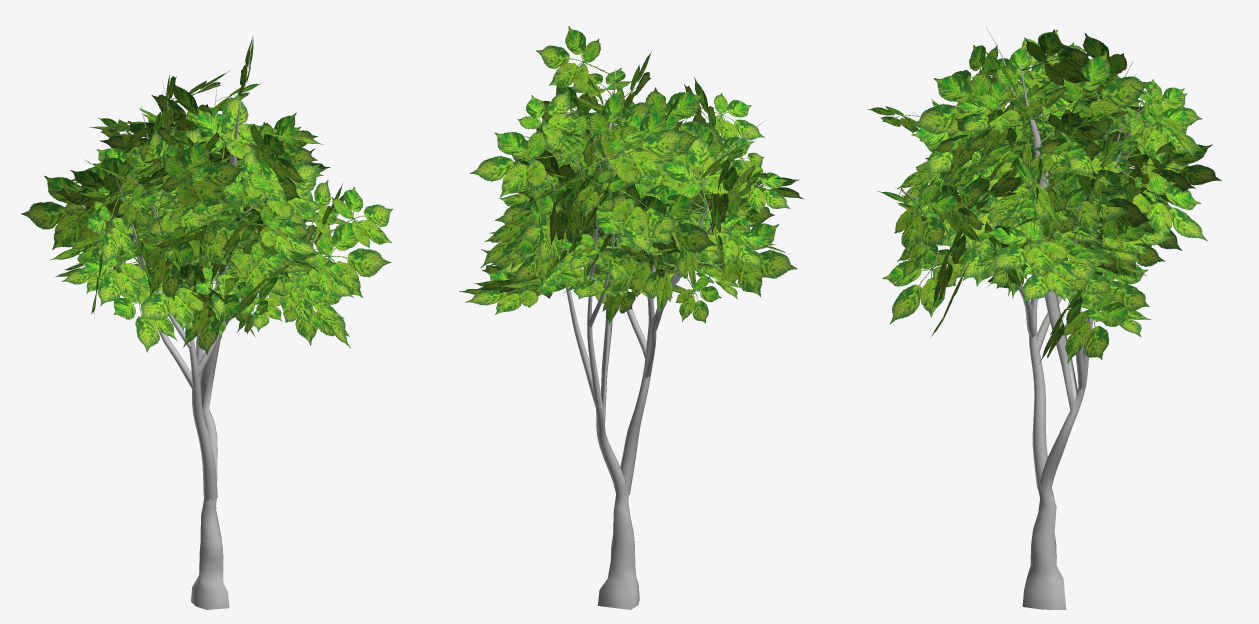
Rendered from SkinnyTree.fbx.
The picture shows the model from 3 angles, left to right: view 1: azimuth 30°, elevation 25°; view 2: azimuth 150°, elevation 25°; view 3: azimuth 270°, elevation 25°; orthographic projection. The views are drawn at different scales.
Visible parts, largest first — view 1: TreeLeaves, SkinnyTree; view 2: TreeLeaves, SkinnyTree; view 3: TreeLeaves, SkinnyTree.
Boxes of the visible parts, box(x1,y1,x2,y2) form: TreeLeaves: box(21, 36, 392, 354); SkinnyTree: box(58, 75, 333, 609); TreeLeaves: box(459, 26, 803, 324); SkinnyTree: box(511, 69, 766, 609); TreeLeaves: box(867, 29, 1221, 363); SkinnyTree: box(895, 26, 1154, 609).
Bounding box in the file's own units: 116 × 199 × 115.
